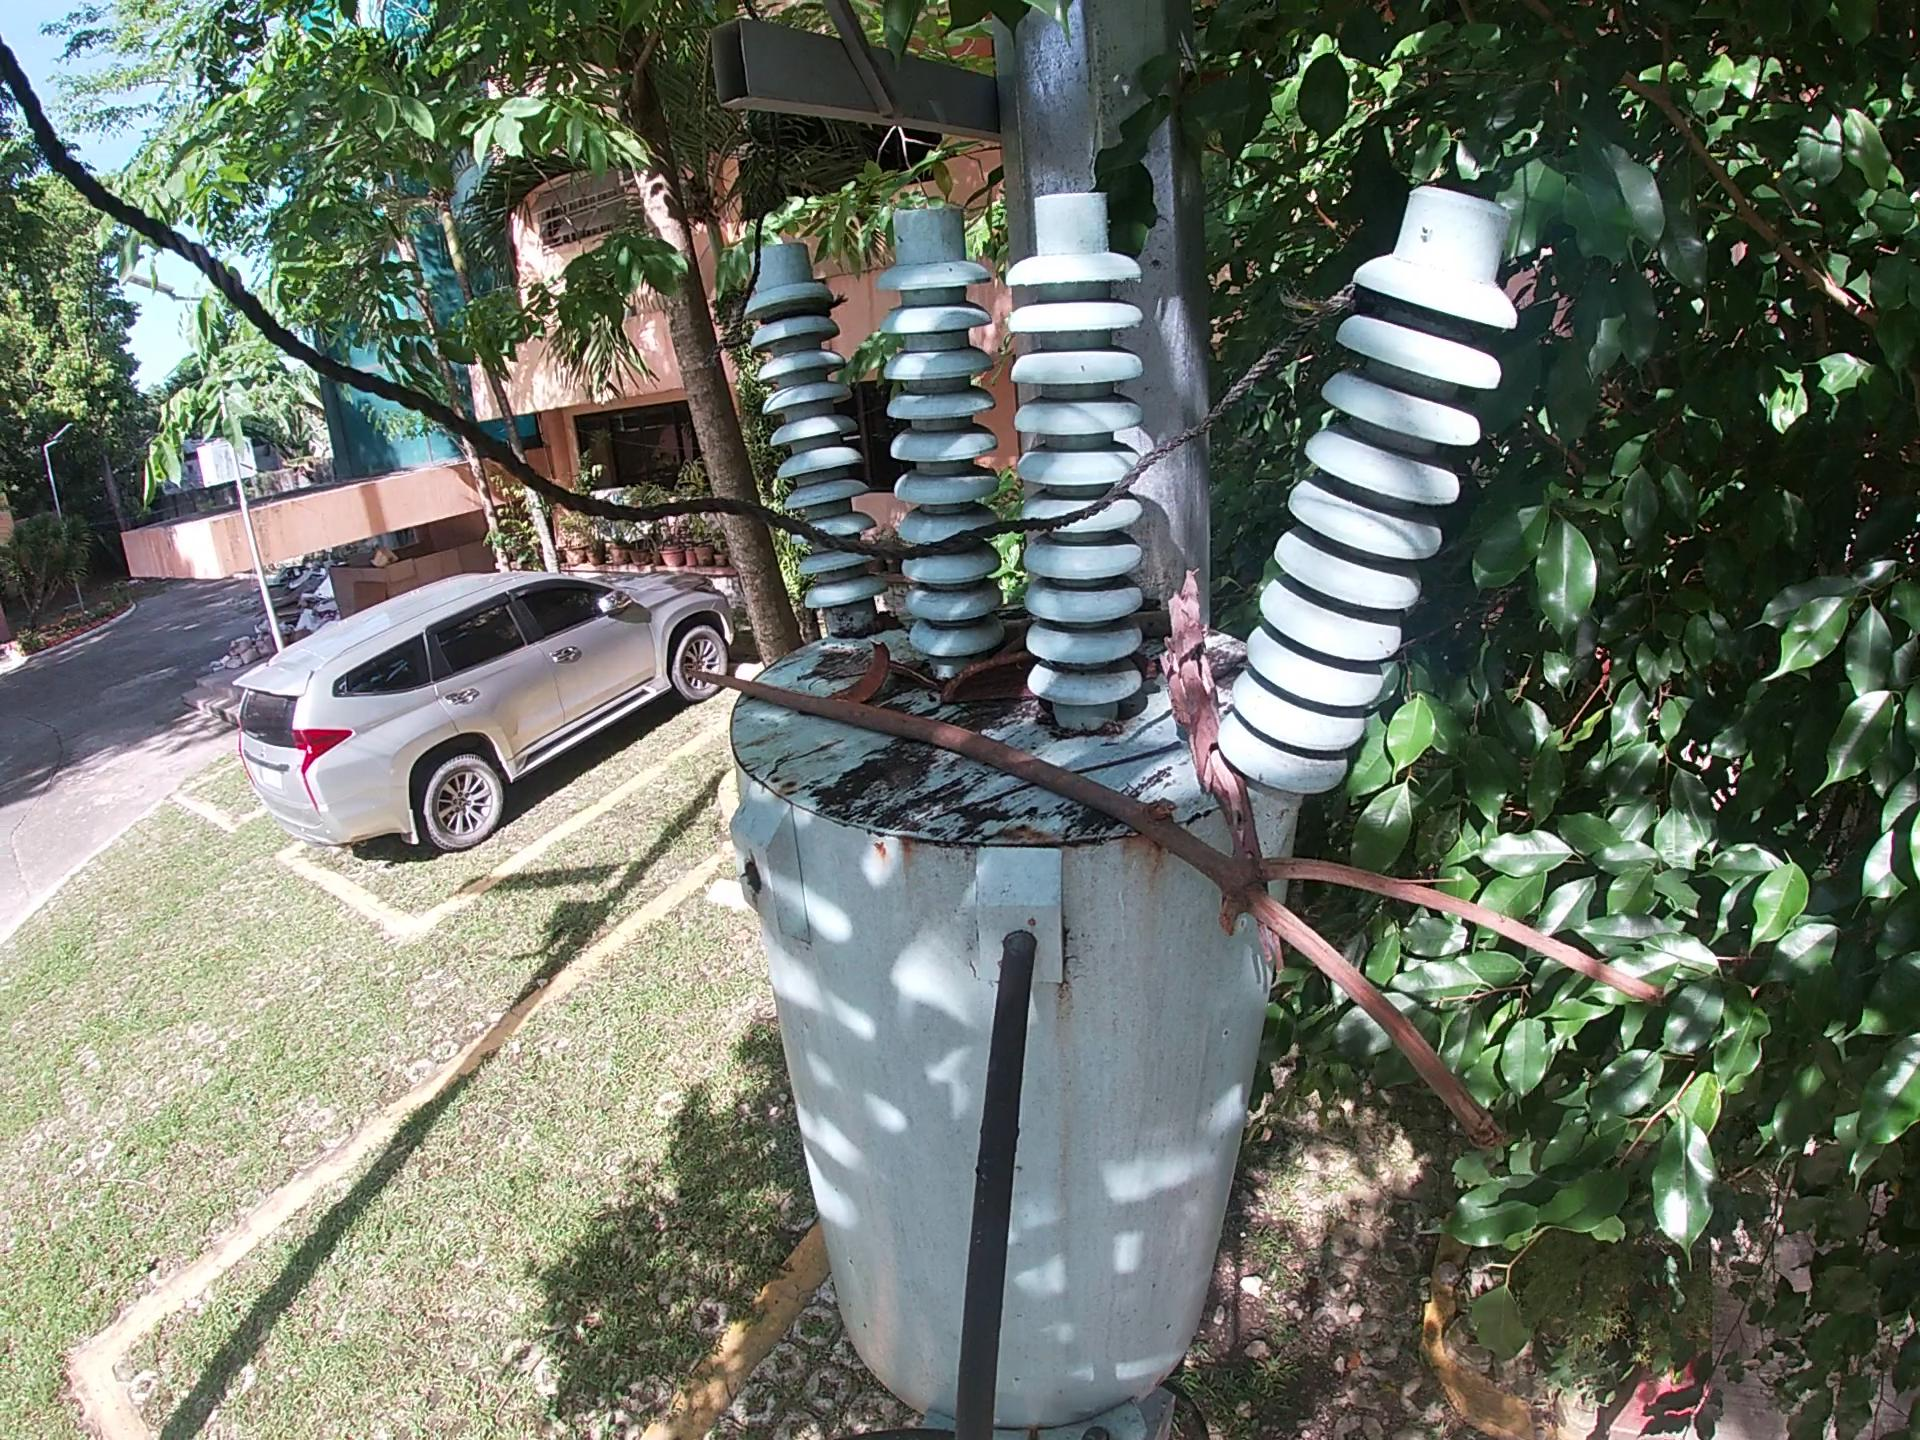mahogany fruit: (936, 659, 1031, 715), (822, 635, 893, 700)
tree branch: (686, 667, 1684, 1162), (1160, 570, 1290, 959), (989, 607, 1039, 655), (892, 659, 936, 706), (1131, 611, 1175, 640)
